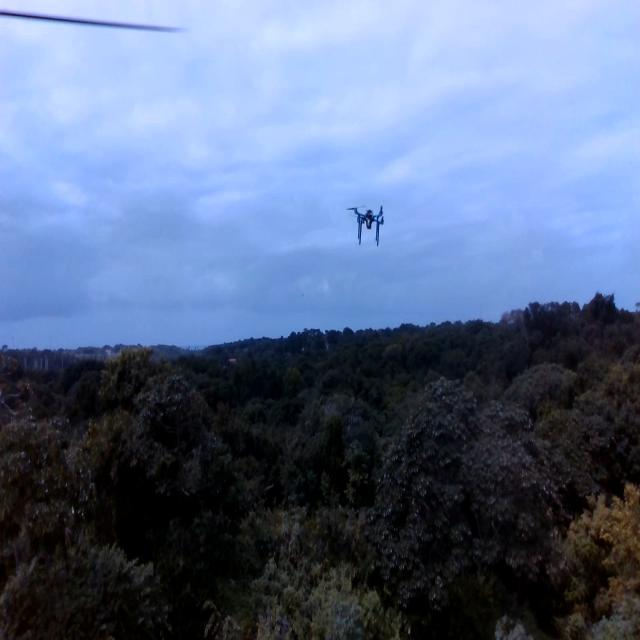-uav-: (342, 191, 392, 246)
